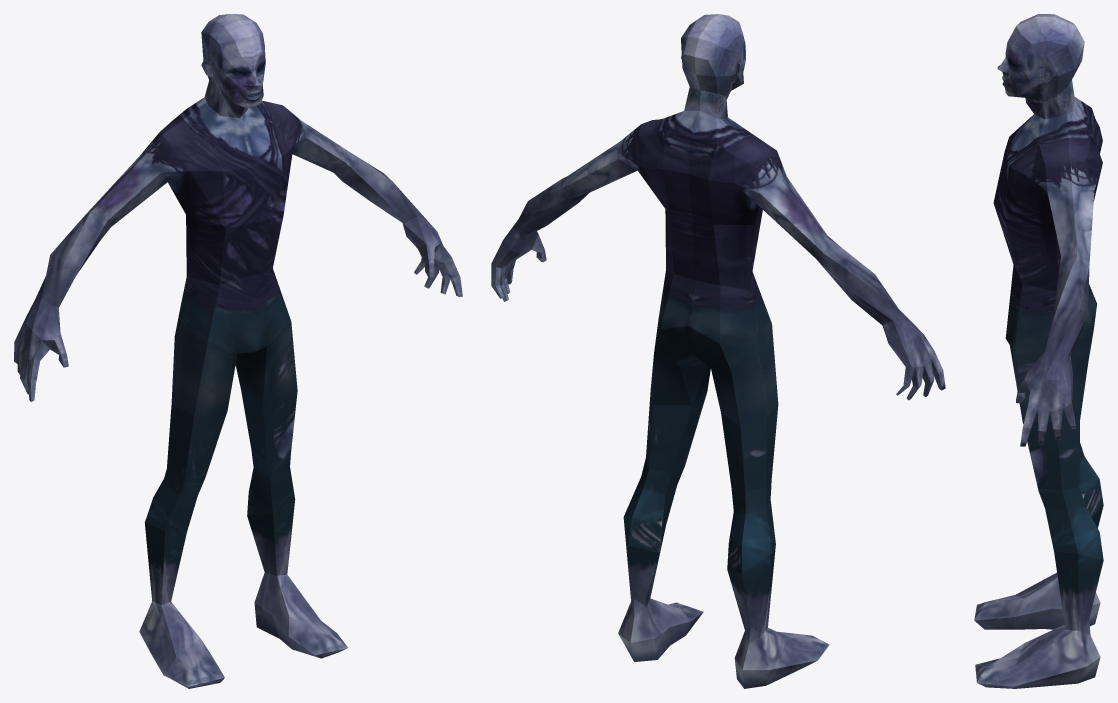
The model's file is zombie_blue.obj.
The picture shows the model from 3 angles, left to right: view 1: azimuth 30°, elevation 25°; view 2: azimuth 150°, elevation 25°; view 3: azimuth 270°, elevation 25°; orthographic projection.
Visible parts, largest first — view 1: fantasy_horde_zombie; view 2: fantasy_horde_zombie; view 3: fantasy_horde_zombie.
Part boxes in pixels (bbox=[...]): fantasy_horde_zombie: bbox=[14, 14, 462, 688]; fantasy_horde_zombie: bbox=[491, 14, 945, 688]; fantasy_horde_zombie: bbox=[974, 14, 1103, 688].
Bounding box in the file's own units: 50.09 × 70.14 × 12.96.
